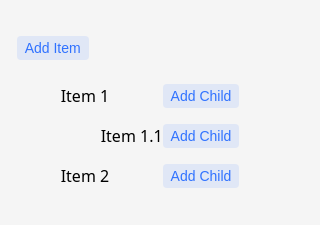
NestedMenu › should add a new item
Click the button "Add Item". click: point(53, 48)
box: [17,36,89,60]
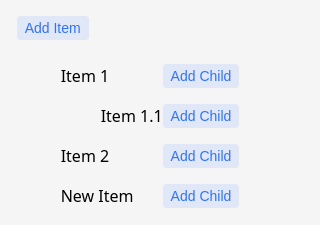
Result: the text "New Item" is shown at [61,185,134,207]
